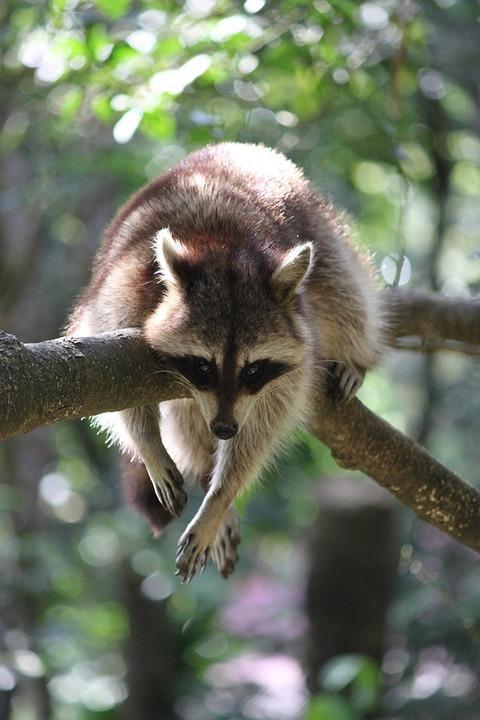raccoon: (63, 138, 391, 581)
